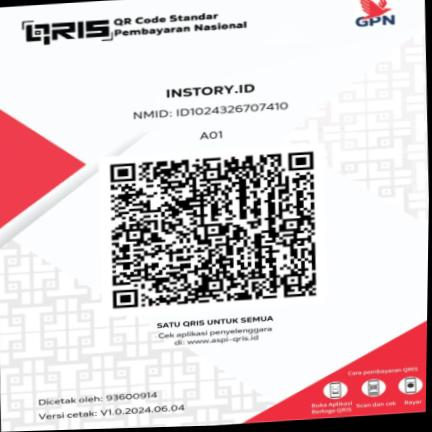Barcode_Asli: (98, 141, 329, 317)
